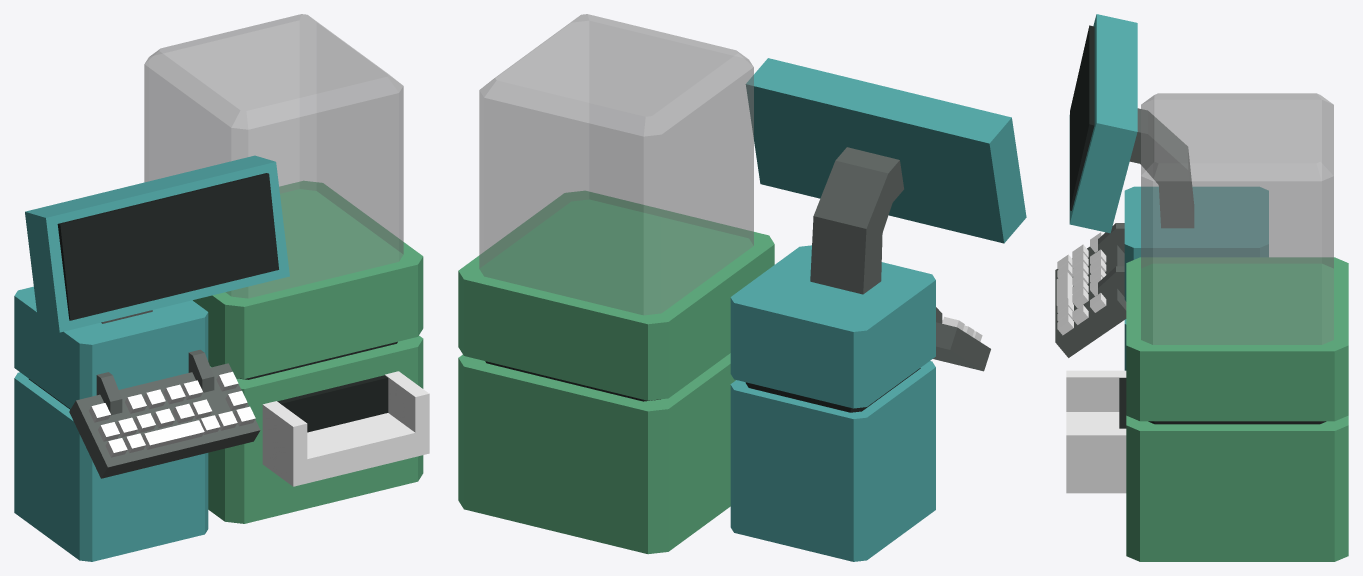
The model's file is dispenser_01.fbx.
3 views of the same model, side by side, from view 1: azimuth 30°, elevation 25°; view 2: azimuth 150°, elevation 25°; view 3: azimuth 270°, elevation 25° (orthographic). The views are drawn at different scales.
Visible parts, largest first — view 1: computer5; view 2: computer5; view 3: computer5.
Part boxes in pixels (x1,y1,x2,y2): computer5: [14, 14, 429, 561]; computer5: [458, 14, 1026, 561]; computer5: [1055, 14, 1348, 561].
Bounding box in the file's own units: 104 × 98.57 × 67.74.
2 materials, 1 textured.
